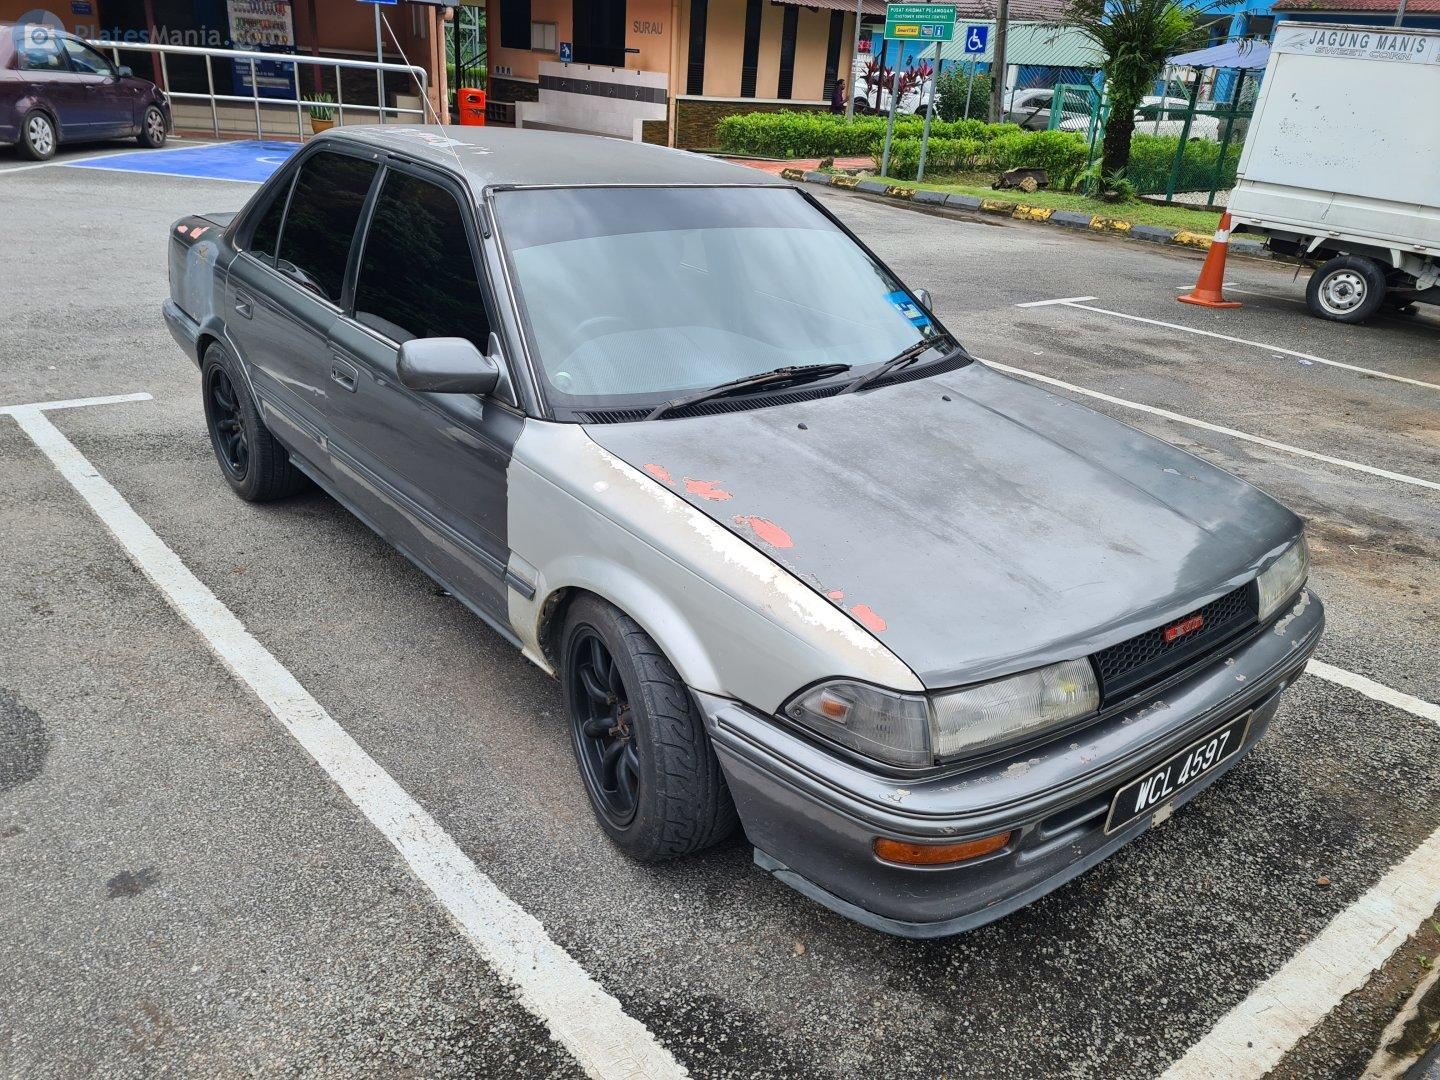License Plate: (1111, 714, 1255, 833)
